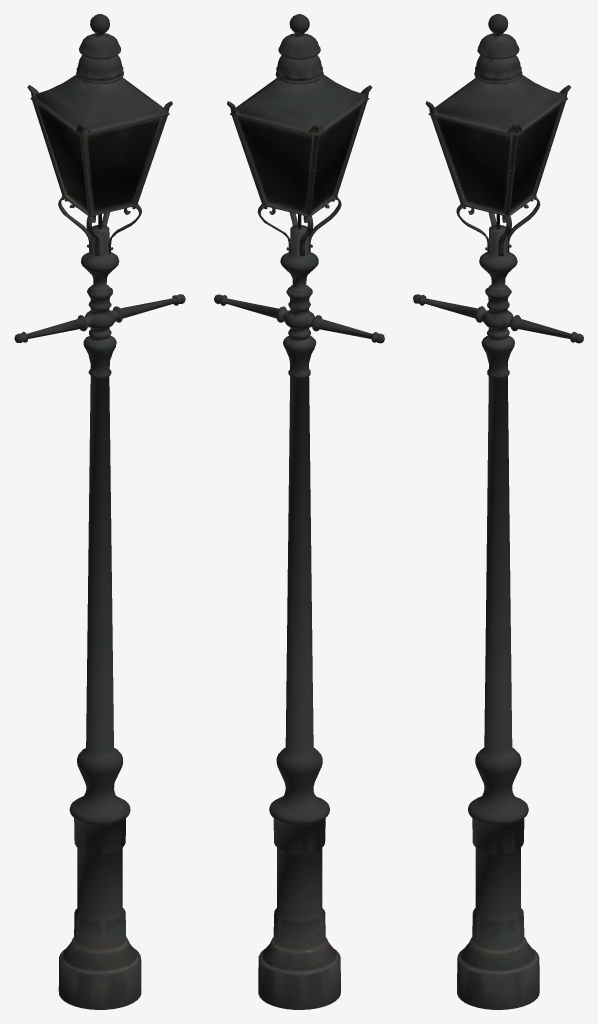
The model's file is street_lamp.glb.
3 views of the same model, side by side, from view 1: azimuth 30°, elevation 25°; view 2: azimuth 150°, elevation 25°; view 3: azimuth 330°, elevation 25° (orthographic).
Parts seen in each view (by area): view 1: street_lamp_01; view 2: street_lamp_01; view 3: street_lamp_01.
Part boxes in pixels (x1,y1,x2,y2): street_lamp_01: (14, 14, 185, 1009); street_lamp_01: (214, 14, 384, 1009); street_lamp_01: (413, 14, 583, 1009).
Bounding box in the file's own units: 0.7034 × 3.87 × 0.3857.
Materials: 2 (2 with a texture image).
